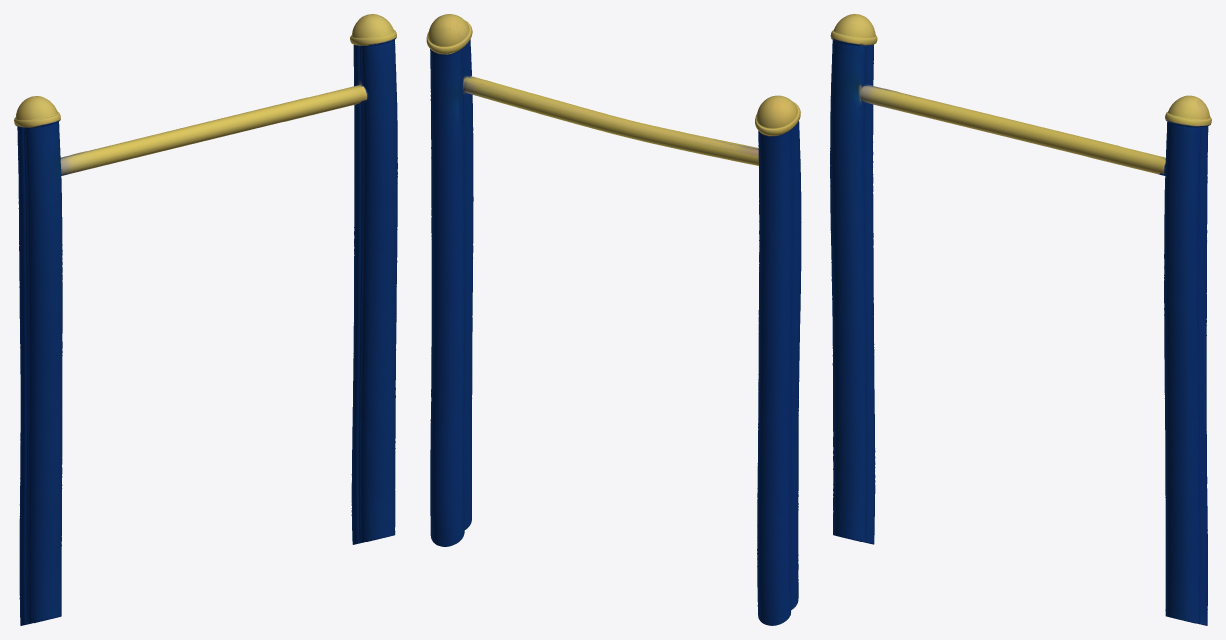
The model's file is OnePullUpBarDraco.glb.
The picture shows the model from 3 angles, left to right: view 1: azimuth 30°, elevation 25°; view 2: azimuth 150°, elevation 25°; view 3: azimuth 330°, elevation 25°; orthographic projection.
Visible parts, largest first — view 1: texture_pbr_v128; view 2: texture_pbr_v128; view 3: texture_pbr_v128.
Part boxes in pixels (bbox=[...]): texture_pbr_v128: bbox=[14, 14, 397, 625]; texture_pbr_v128: bbox=[426, 14, 801, 625]; texture_pbr_v128: bbox=[830, 14, 1211, 625].
Bounding box in the file's own units: 0.7191 × 0.9793 × 0.0937.
Materials: 1 (1 with a texture image).
